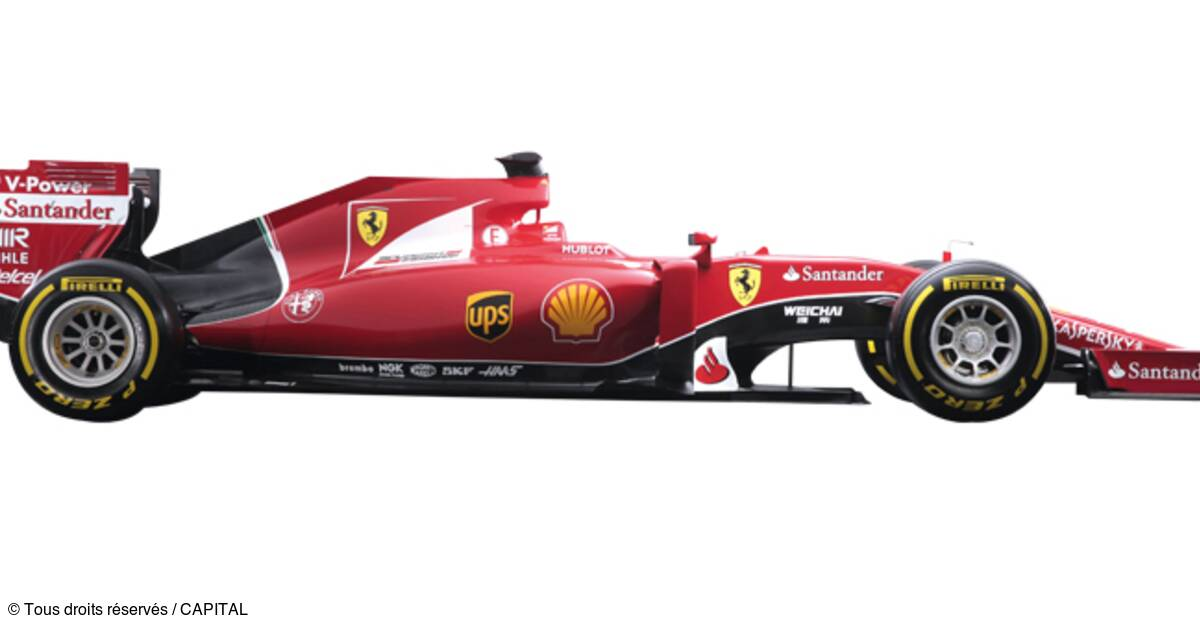Formule 1: (0, 153, 1197, 426)
